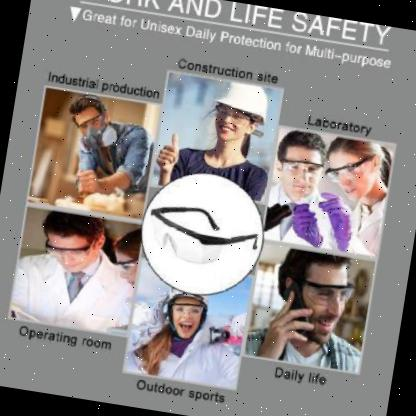oculos: (140, 187, 266, 274), (284, 266, 367, 316), (33, 226, 104, 268), (202, 98, 264, 134), (162, 296, 218, 327), (67, 106, 118, 140), (278, 152, 328, 185), (326, 160, 370, 188)
